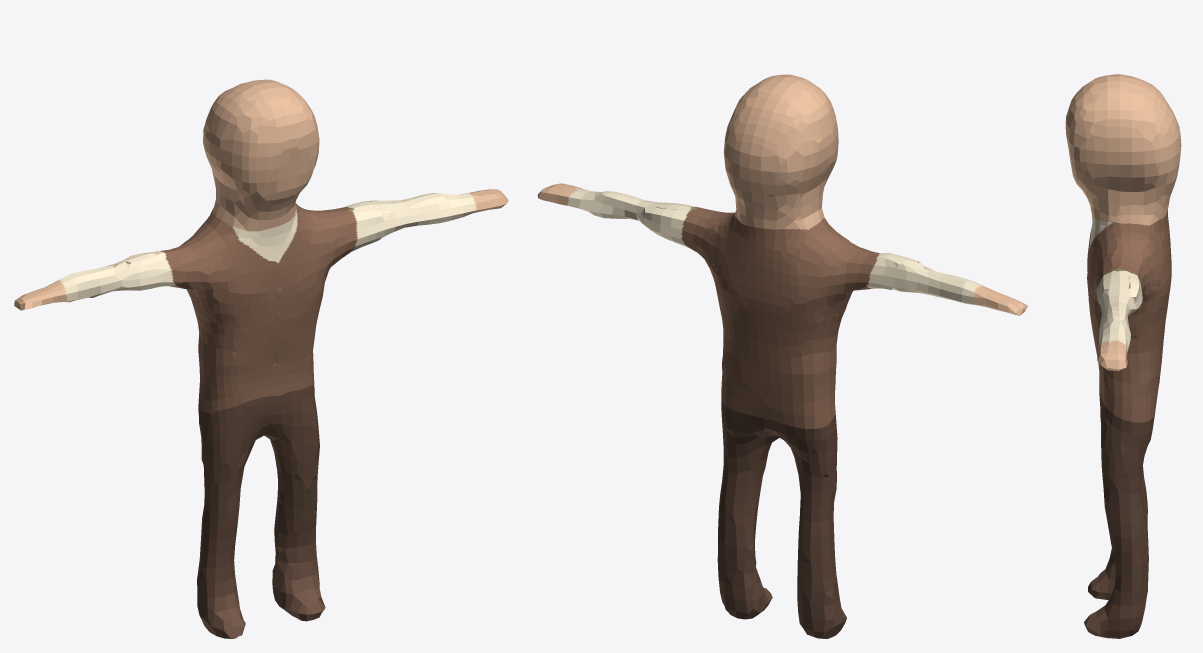
Rendered from man_2.fbx.
3 views of the same model, side by side, from view 1: azimuth 30°, elevation 25°; view 2: azimuth 150°, elevation 25°; view 3: azimuth 270°, elevation 25° (orthographic).
Parts seen in each view (by area): view 1: Man_.005; view 2: Man_.005; view 3: Man_.005.
Boxes of the visible parts, x1=… form: Man_.005: x1=14, y1=79, x2=508, y2=638; Man_.005: x1=537, y1=74, x2=1028, y2=638; Man_.005: x1=1065, y1=74, x2=1181, y2=638.
Size of the model in its own units: 472 by 548 by 111.
Materials: 1 (1 with a texture image).
